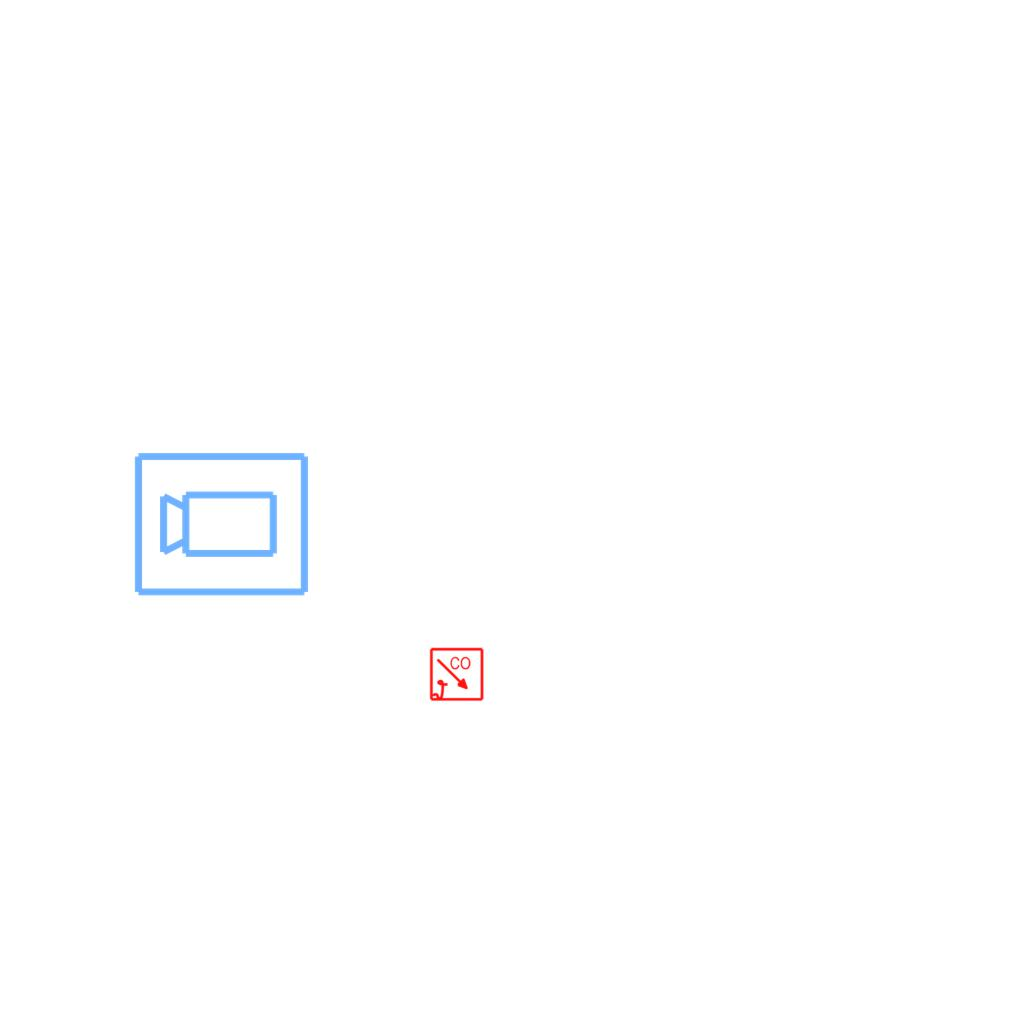KFO_Kamera_mit_Festobjektiv: (131, 446, 313, 600)
ROA_Rauchmelder_optisch_mit_Signalgeber_(Sockelsirene): (429, 647, 485, 703)
